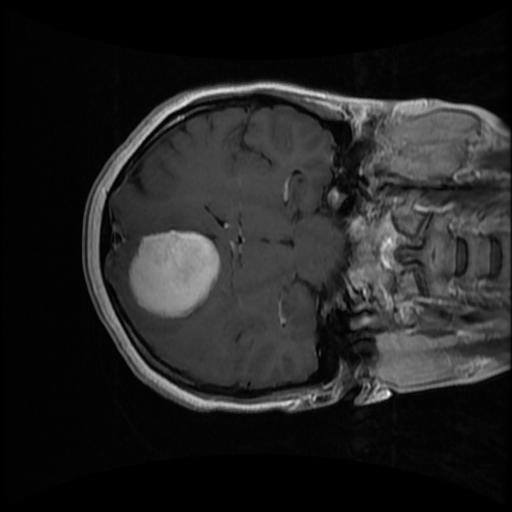meningioma: (127, 230, 220, 317)
